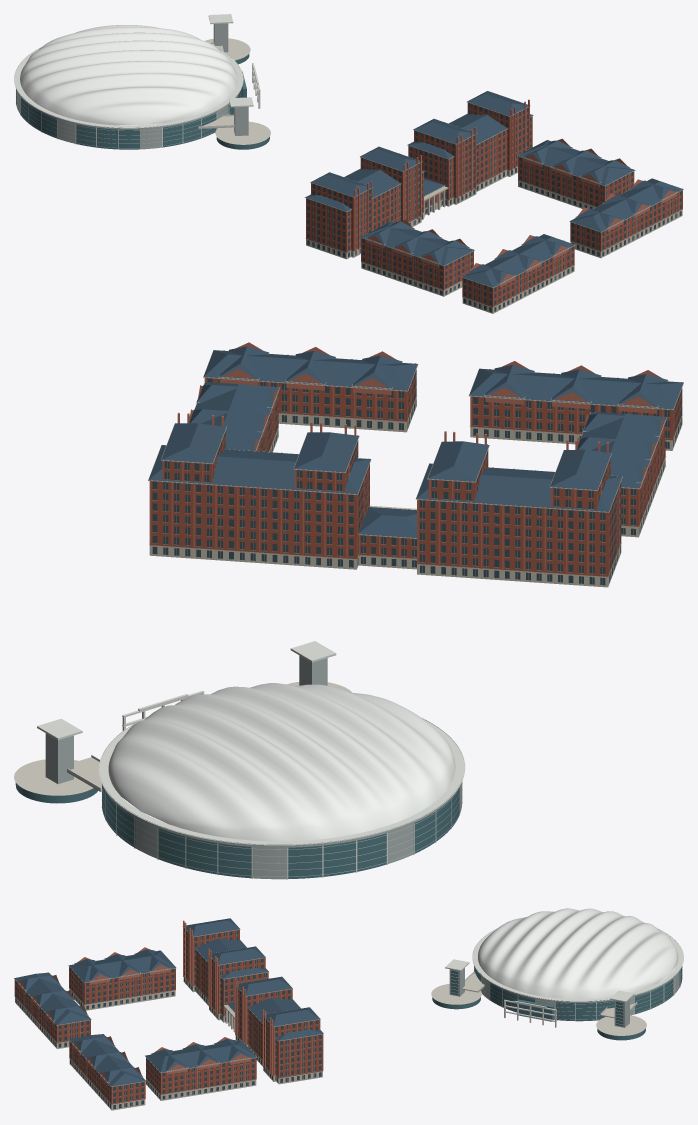
The model's file is Landmarks_Combined.glb.
The picture shows the model from 3 angles, top to bottom: view 1: azimuth 30°, elevation 25°; view 2: azimuth 150°, elevation 25°; view 3: azimuth 270°, elevation 25°; orthographic projection. The views are drawn at different scales.
Parts seen in each view (by area): view 1: osm219751253CHN_White_membrane, osm1207394280CHN_Brick_red, osm1207394279CHN_Brick_red, osm219751253CHN_Blue_green_glass, osm219751253CHN_White_frames, osm1207394279CHN_Slate_blue_roof, osm1207394280CHN_Dark_window, osm1207394280CHN_Slate_blue_roof, osm1207394279CHN_Dark_window, osm1207394283CHN_Slate_blue_roof, osm219751253CHN_Silver_cladding, osm1207394298CHN_Slate_blue_roof (+23 smaller); view 2: osm219751253CHN_White_membrane, osm1207394279CHN_Brick_red, osm1207394280CHN_Brick_red, osm219751253CHN_Blue_green_glass, osm1207394279CHN_Slate_blue_roof, osm219751253CHN_White_frames, osm1207394280CHN_Slate_blue_roof, osm1207394279CHN_Dark_window, osm1207394280CHN_Dark_window, osm219751253CHN_Silver_cladding, osm1207394298CHN_Slate_blue_roof, osm1207394299CHN_Slate_blue_roof (+21 smaller); view 3: osm219751253CHN_White_membrane, osm219751253CHN_Blue_green_glass, osm1207394279CHN_Brick_red, osm219751253CHN_White_frames, osm1207394280CHN_Brick_red, osm1207394279CHN_Slate_blue_roof, osm1207394280CHN_Slate_blue_roof, osm1207394279CHN_Dark_window, osm1207394283CHN_Slate_blue_roof, osm1207394297CHN_Slate_blue_roof, osm1207394299CHN_Slate_blue_roof, osm1207394298CHN_Slate_blue_roof (+23 smaller).
Boxes of the visible parts, x1,y1,x2,y2 form: osm219751253CHN_White_membrane: [20, 25, 237, 125]; osm1207394280CHN_Brick_red: [306, 157, 423, 252]; osm1207394279CHN_Brick_red: [409, 102, 532, 199]; osm219751253CHN_Blue_green_glass: [16, 54, 269, 149]; osm219751253CHN_White_frames: [14, 14, 260, 149]; osm1207394279CHN_Slate_blue_roof: [408, 91, 532, 158]; osm1207394280CHN_Dark_window: [307, 158, 422, 257]; osm1207394280CHN_Slate_blue_roof: [305, 146, 424, 211]; osm1207394279CHN_Dark_window: [409, 103, 531, 204]; osm1207394283CHN_Slate_blue_roof: [517, 140, 634, 185]; osm219751253CHN_Silver_cladding: [16, 23, 248, 149]; osm1207394298CHN_Slate_blue_roof: [462, 234, 575, 287]; osm219751253CHN_White_membrane: [108, 683, 455, 841]; osm1207394279CHN_Brick_red: [149, 431, 369, 558]; osm1207394280CHN_Brick_red: [417, 450, 621, 576]; osm219751253CHN_Blue_green_glass: [15, 782, 459, 878]; osm1207394279CHN_Slate_blue_roof: [148, 423, 370, 494]; osm219751253CHN_White_frames: [37, 641, 465, 879]; osm1207394280CHN_Slate_blue_roof: [416, 441, 622, 511]; osm1207394279CHN_Dark_window: [152, 432, 369, 567]; osm1207394280CHN_Dark_window: [420, 451, 620, 585]; osm219751253CHN_Silver_cladding: [45, 655, 462, 879]; osm1207394298CHN_Slate_blue_roof: [469, 365, 683, 409]; osm1207394299CHN_Slate_blue_roof: [203, 346, 417, 390]; osm219751253CHN_White_membrane: [478, 908, 678, 999]; osm219751253CHN_Blue_green_glass: [432, 966, 682, 1040]; osm1207394279CHN_Brick_red: [236, 989, 322, 1078]; osm219751253CHN_White_frames: [445, 929, 683, 1027]; osm1207394280CHN_Brick_red: [184, 930, 268, 1016]; osm1207394279CHN_Slate_blue_roof: [236, 976, 323, 1040]; osm1207394280CHN_Slate_blue_roof: [184, 918, 268, 979]; osm1207394279CHN_Dark_window: [236, 987, 321, 1082]; osm1207394283CHN_Slate_blue_roof: [145, 1039, 256, 1072]; osm1207394297CHN_Slate_blue_roof: [69, 949, 175, 982]; osm1207394299CHN_Slate_blue_roof: [69, 1034, 145, 1086]; osm1207394298CHN_Slate_blue_roof: [14, 972, 90, 1025].
Bounding box in the file's own units: 242 × 39.1 × 386.
